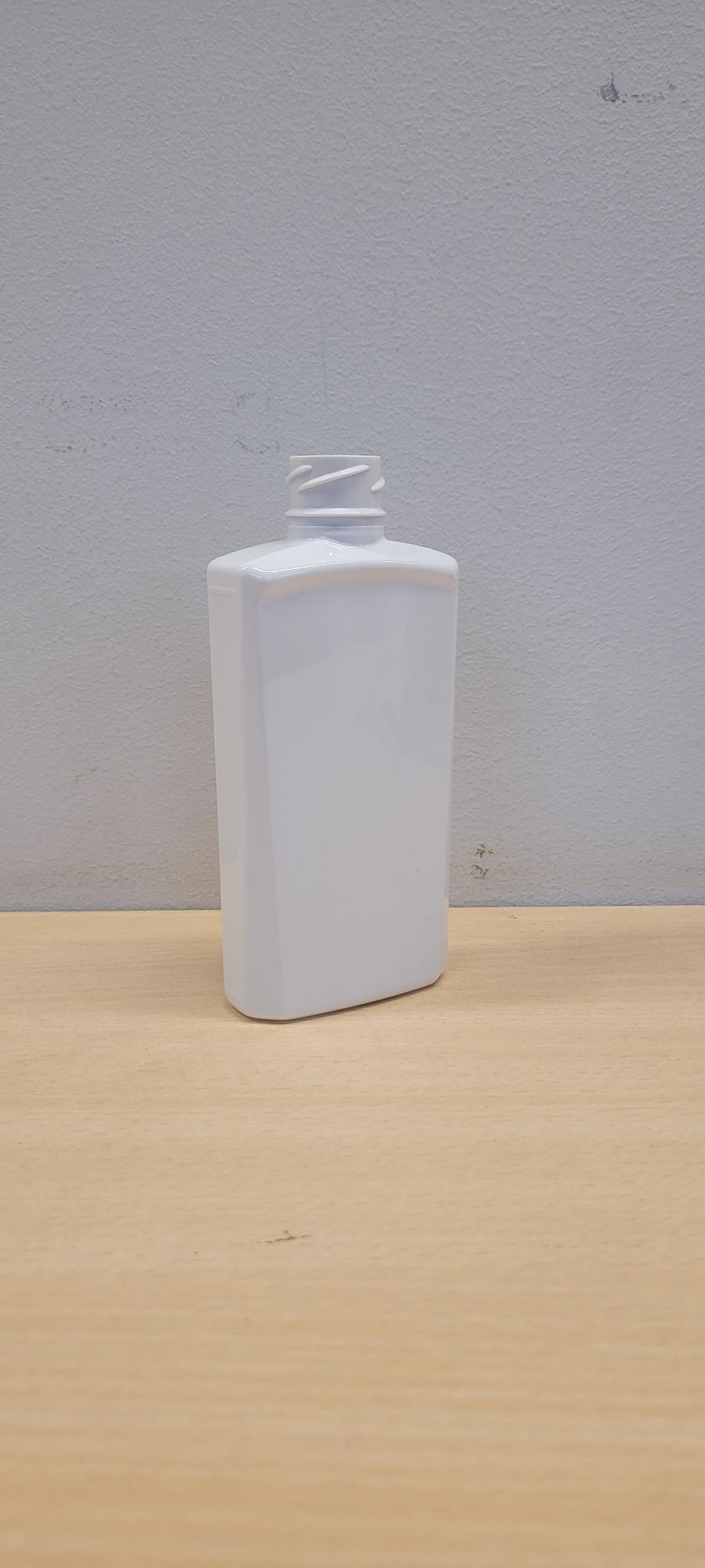bottle: (207, 455, 458, 1019)
